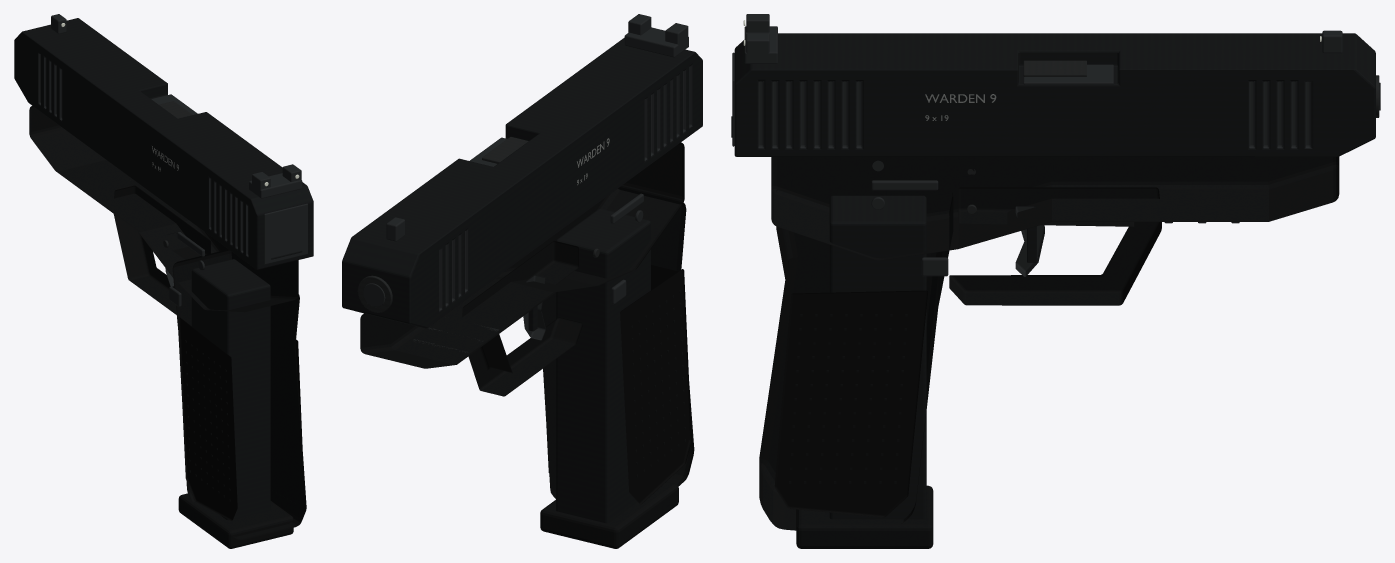
The model's file is pistol.glb.
The picture shows the model from 3 angles, left to right: view 1: azimuth 30°, elevation 25°; view 2: azimuth 150°, elevation 25°; view 3: azimuth 270°, elevation 25°; orthographic projection. The views are drawn at different scales.
Visible parts, largest first — view 1: slide, body, mag; view 2: slide, body, mag; view 3: body, slide, mag.
Boxes of the visible parts, <box> form: slide: <box>14,14,313,269</box>; body: <box>29,105,306,539</box>; mag: <box>178,259,293,548</box>; slide: <box>342,14,702,328</box>; body: <box>360,142,694,504</box>; mag: <box>540,208,678,548</box>; body: <box>759,157,1339,530</box>; slide: <box>731,14,1380,156</box>; mag: <box>796,195,933,548</box>.
Size of the model in its own units: 0.0327 by 0.166 by 0.1944.
Materials: 7 (4 with a texture image).
